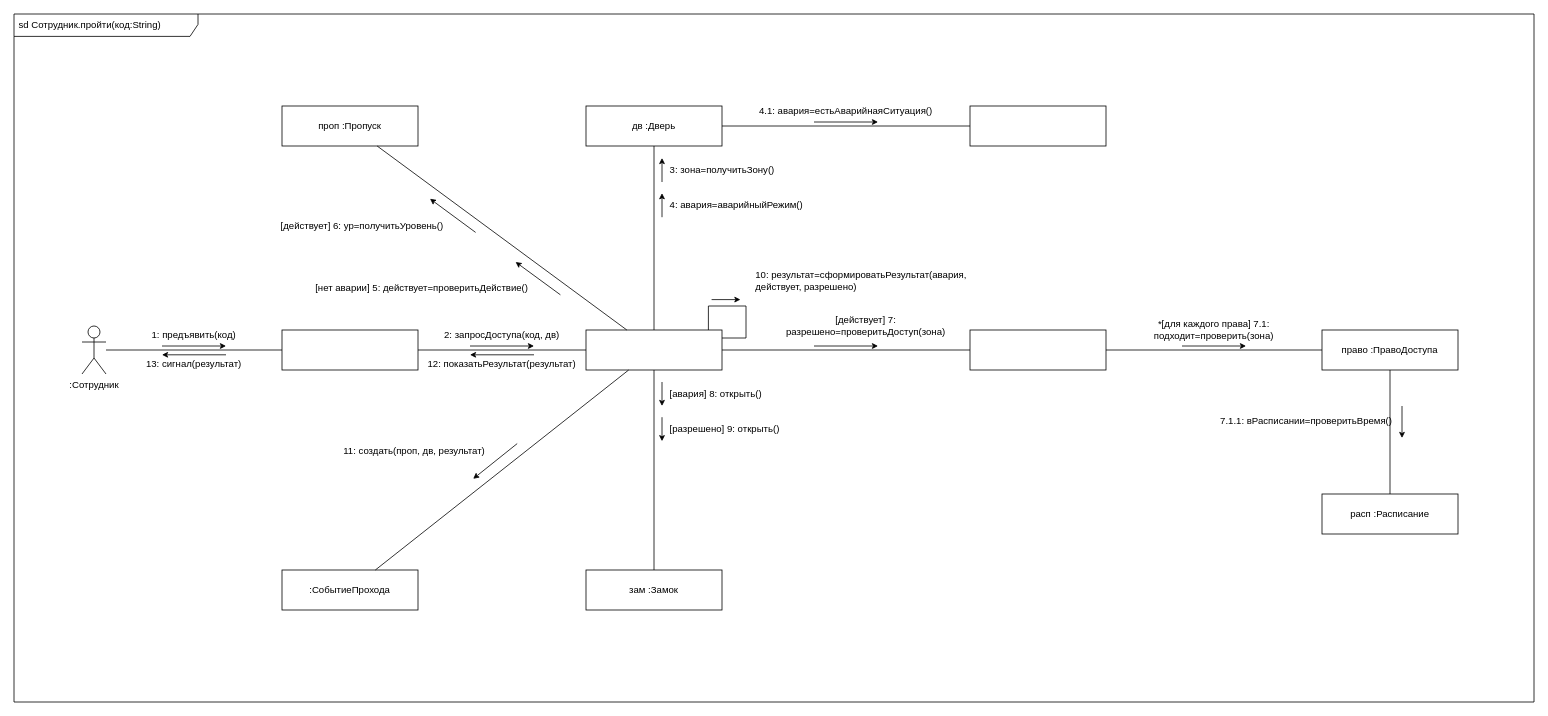
The diagram is 1548 pixels wide and 716 high, and some of its shapes have lost their labels. Each missing label, with the centre of its shape:
зона :Зона: (x=1037, y=125)
контр :Контроллер: (x=653, y=349)
счит :Считыватель: (x=349, y=349)
ур :УровеньДоступа: (x=1037, y=349)
